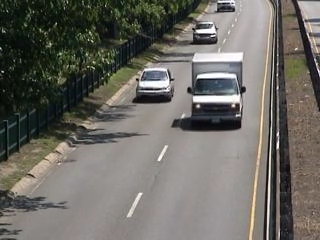car: (134, 64, 174, 108), (190, 19, 220, 49), (214, 1, 238, 15)
truck: (186, 52, 252, 129)
